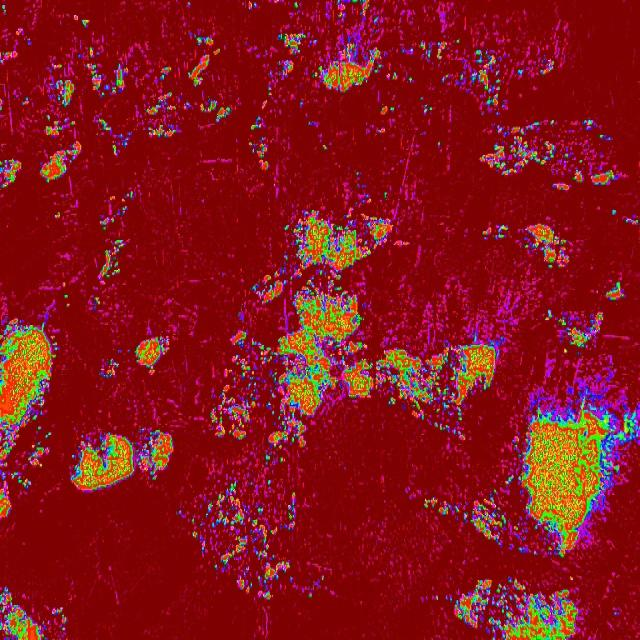fire: (208, 207, 504, 468), (38, 33, 234, 156), (511, 385, 640, 557), (176, 481, 296, 594), (0, 312, 59, 519), (399, 40, 554, 114), (480, 117, 624, 191), (443, 577, 581, 640), (70, 427, 176, 491), (306, 36, 398, 93), (542, 307, 606, 357), (471, 474, 513, 546), (518, 218, 568, 268), (0, 586, 46, 640), (274, 29, 306, 90), (350, 170, 389, 208), (422, 496, 470, 526), (250, 117, 274, 172), (332, 0, 382, 25), (101, 192, 132, 232), (135, 334, 171, 368), (97, 240, 128, 278), (38, 156, 78, 184), (597, 205, 640, 227), (1, 156, 22, 192), (50, 605, 70, 640), (97, 356, 119, 380), (306, 572, 326, 596), (58, 282, 72, 312), (604, 281, 624, 301), (378, 102, 398, 118), (239, 0, 258, 14), (0, 51, 19, 63), (318, 140, 332, 154), (290, 0, 302, 16), (54, 207, 65, 224), (91, 297, 103, 311), (78, 16, 90, 30), (20, 94, 30, 108), (23, 33, 33, 47), (264, 83, 274, 97), (305, 118, 318, 128), (0, 2, 9, 16), (296, 97, 306, 108), (432, 594, 441, 604), (504, 223, 510, 234), (436, 138, 442, 148), (186, 0, 193, 8)
